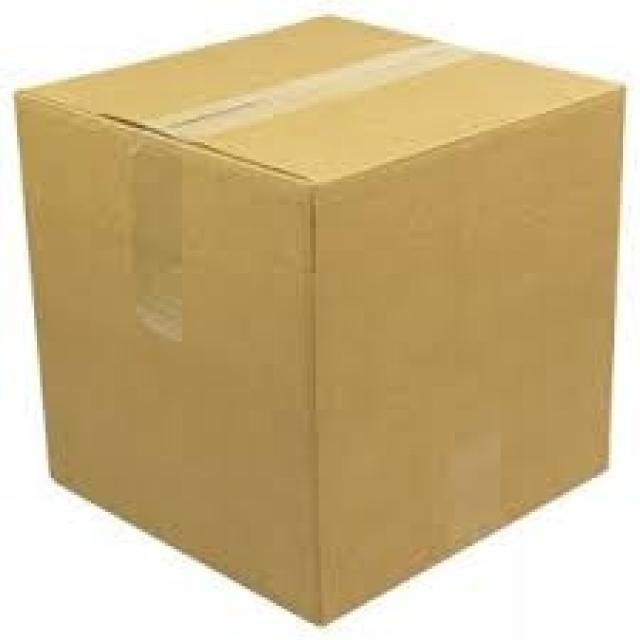cardboard paper: (16, 16, 621, 620)
